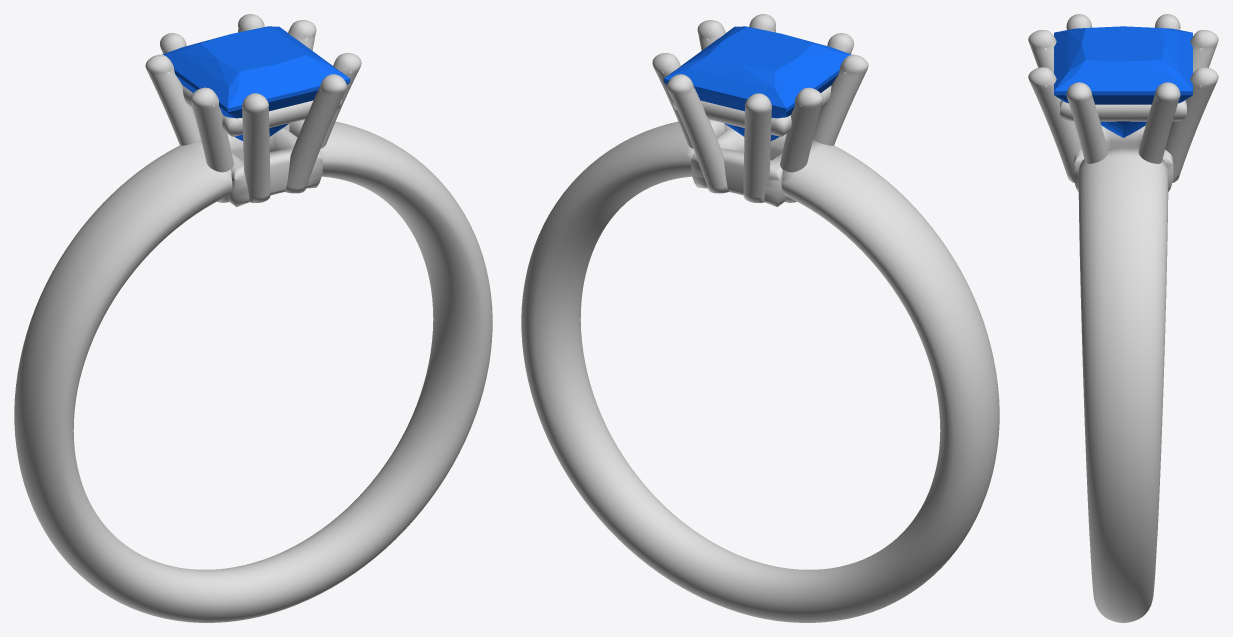
Rendered from bluesapphire-princess-platinum-8prong-taperedband-solitaire.glb.
3 views of the same model, side by side, from view 1: azimuth 30°, elevation 25°; view 2: azimuth 150°, elevation 25°; view 3: azimuth 270°, elevation 25° (orthographic).
Visible parts, largest first — view 1: metal, stone; view 2: metal, stone; view 3: metal, stone.
Boxes of the visible parts, box(x1,y1,x2,y2) form: metal: box(14, 14, 492, 622); stone: box(162, 26, 350, 140); metal: box(521, 14, 999, 622); stone: box(663, 26, 851, 140); metal: box(1028, 14, 1218, 622); stone: box(1054, 26, 1192, 137).
Size of the model in its own units: 20.5 by 23.85 by 7.42.
